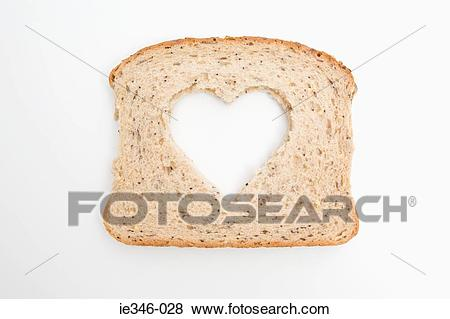slice of bread: (103, 34, 359, 248)
